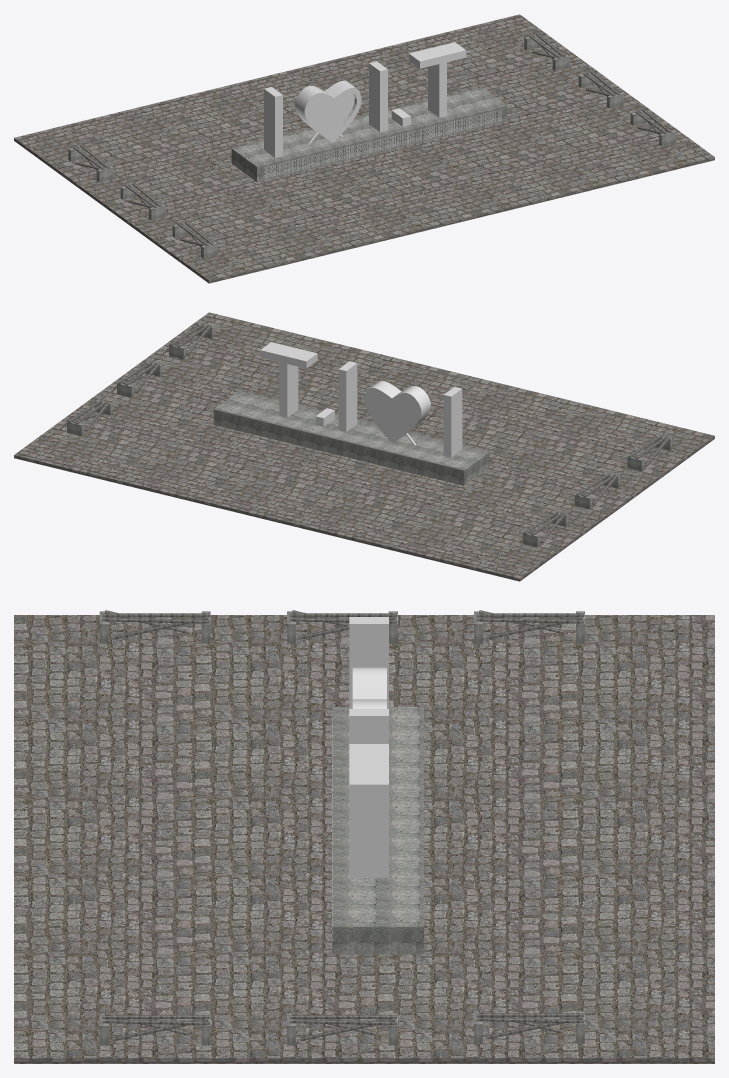
3 views of the same model, one above another, from view 1: azimuth 30°, elevation 25°; view 2: azimuth 150°, elevation 25°; view 3: azimuth 270°, elevation 25° (orthographic). The views are drawn at different scales.
Parts seen in each view (by area): view 1: Box074, Box075, Group014, Line001, Text001; view 2: Box074, Box075, Group014, Line001, Text001; view 3: Box074, Box075, Group014, Text001, Line001.
Boxes of the visible parts, left/top/right/bottom form: Box074: left=14, top=14, right=714, bottom=283; Box075: left=231, top=87, right=507, bottom=182; Group014: left=309, top=42, right=466, bottom=135; Line001: left=295, top=80, right=361, bottom=142; Text001: left=264, top=87, right=282, bottom=157; Box074: left=14, top=312, right=714, bottom=581; Box075: left=213, top=390, right=489, bottom=485; Group014: left=260, top=342, right=357, bottom=431; Line001: left=364, top=380, right=430, bottom=443; Text001: left=443, top=386, right=462, bottom=457; Box074: left=14, top=615, right=714, bottom=1063; Box075: left=332, top=707, right=423, bottom=954; Group014: left=349, top=709, right=388, bottom=877; Text001: left=349, top=617, right=388, bottom=708; Line001: left=352, top=667, right=386, bottom=708.
Bounding box in the file's own units: 1717 × 258 × 1147.
Materials: 3 (3 with a texture image).
